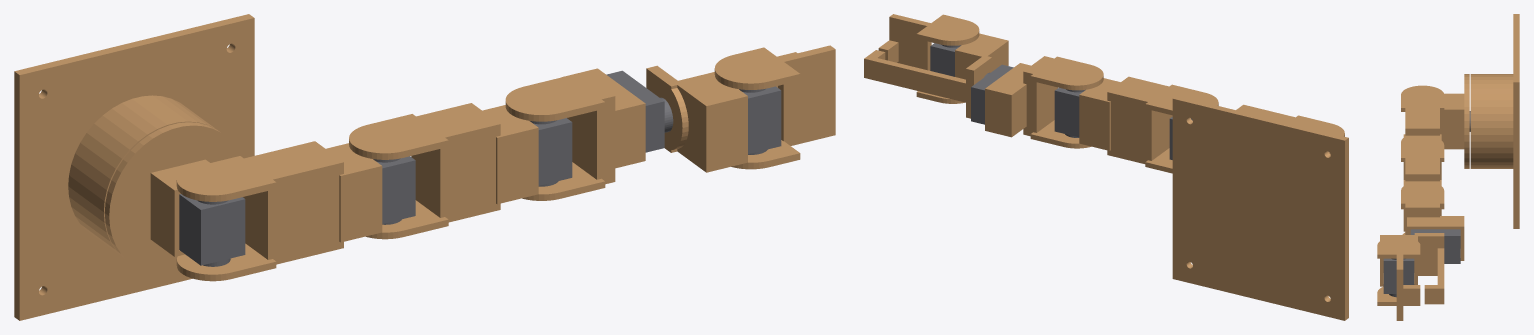
The model's file is HS_ARM_A_ASSEMBLY.glb.
3 views of the same model, side by side, from view 1: azimuth 30°, elevation 25°; view 2: azimuth 150°, elevation 25°; view 3: azimuth 270°, elevation 25° (orthographic). The views are drawn at different scales.
Visible parts, largest first — view 1: base_housing, upper_arm, forearm, turntable, wrist, gripper_jaw, gripper_base, servo_shoulder, servo_wrist_pitch, servo_elbow, servo_gripper, servo_wrist_roll; view 2: base_housing, forearm, wrist, gripper_base, gripper_jaw, servo_wrist_pitch, upper_arm, servo_wrist_roll, servo_gripper; view 3: base_housing, wrist, upper_arm, gripper_jaw, gripper_base, forearm, turntable, servo_gripper, servo_wrist_roll.
Boxes of the visible parts, x1,y1,x2,y2 form: base_housing: [14, 14, 254, 320]; upper_arm: [176, 141, 382, 281]; forearm: [349, 103, 538, 239]; turntable: [104, 122, 241, 273]; wrist: [505, 68, 645, 200]; gripper_jaw: [714, 45, 835, 169]; gripper_base: [646, 52, 797, 172]; servo_shoulder: [179, 194, 245, 266]; servo_wrist_pitch: [530, 118, 572, 186]; servo_elbow: [373, 156, 415, 224]; servo_gripper: [739, 86, 781, 154]; servo_wrist_roll: [606, 70, 673, 152]; base_housing: [1172, 95, 1348, 320]; forearm: [1079, 76, 1218, 173]; wrist: [985, 56, 1103, 148]; gripper_base: [864, 33, 1008, 118]; gripper_jaw: [878, 14, 979, 103]; servo_wrist_pitch: [1054, 87, 1085, 137]; upper_arm: [1236, 104, 1344, 136]; servo_wrist_roll: [971, 64, 1013, 124]; servo_gripper: [930, 43, 961, 76]; base_housing: [1470, 14, 1519, 228]; wrist: [1401, 181, 1464, 260]; upper_arm: [1401, 85, 1444, 179]; gripper_jaw: [1377, 236, 1420, 320]; gripper_base: [1380, 233, 1444, 304]; forearm: [1401, 135, 1444, 231]; turntable: [1440, 74, 1469, 168]; servo_gripper: [1383, 258, 1414, 297]; servo_wrist_roll: [1410, 229, 1460, 263].
Bounding box in the file's own units: 459 × 150 × 132.
